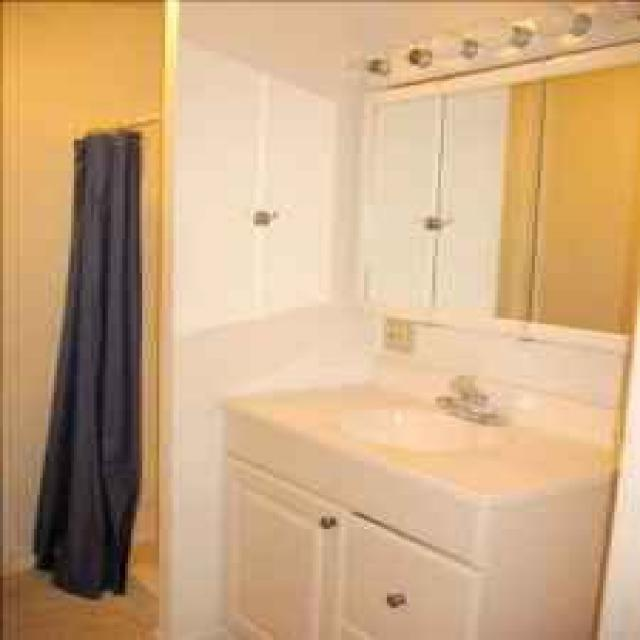closet crop: (219, 303, 626, 636)
curtain crop: (28, 128, 137, 599)
faucet handle: (430, 371, 503, 422)
floor -X: (3, 559, 162, 638)
mirror crop: (358, 41, 631, 333)
rail crop: (77, 111, 156, 134)
shower crop: (122, 542, 159, 631)
spotlights: (367, 2, 629, 92)
wall clock: (327, 0, 634, 636), (156, 0, 344, 636), (3, 0, 162, 576)
washbasin crop: (330, 401, 492, 452)
